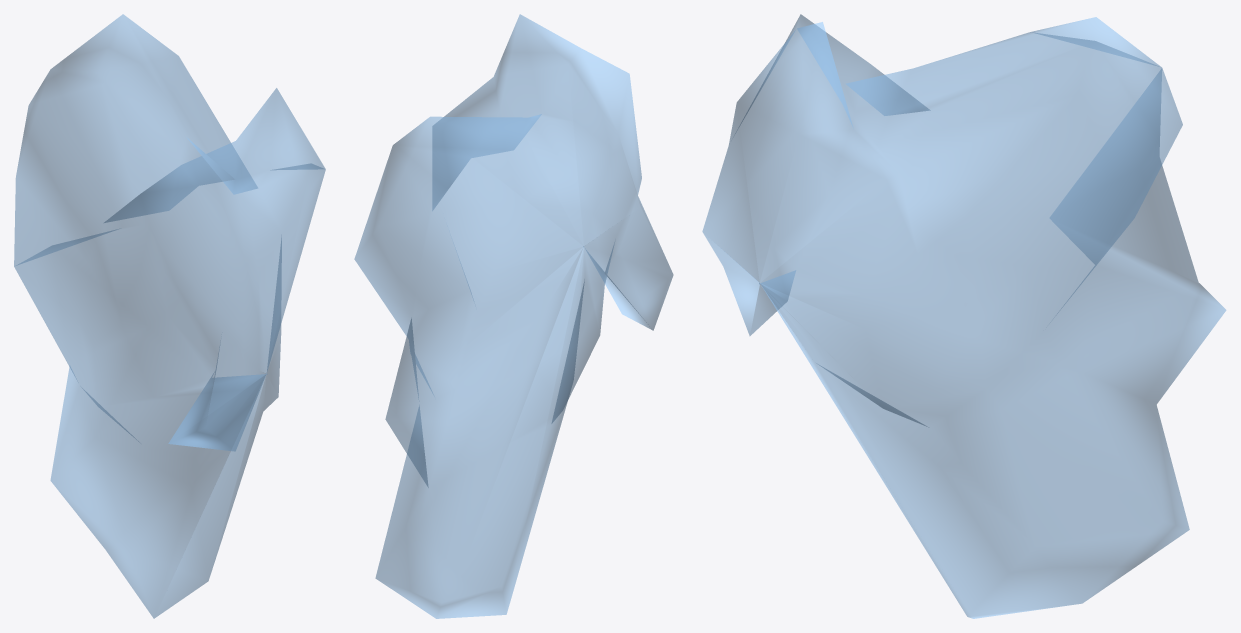
File: mbioforge_shield.gltf
3 views of the same model, side by side, from view 1: azimuth 30°, elevation 25°; view 2: azimuth 150°, elevation 25°; view 3: azimuth 270°, elevation 25° (orthographic). The views are drawn at different scales.
Visible parts, largest first — view 1: mbioforge.shield; view 2: mbioforge.shield; view 3: mbioforge.shield.
Part boxes in pixels (x1,y1,x2,y2): mbioforge.shield: [14, 14, 325, 618]; mbioforge.shield: [354, 14, 673, 618]; mbioforge.shield: [702, 14, 1226, 618].
Bounding box in the file's own units: 10.86 × 31.35 × 23.78.
